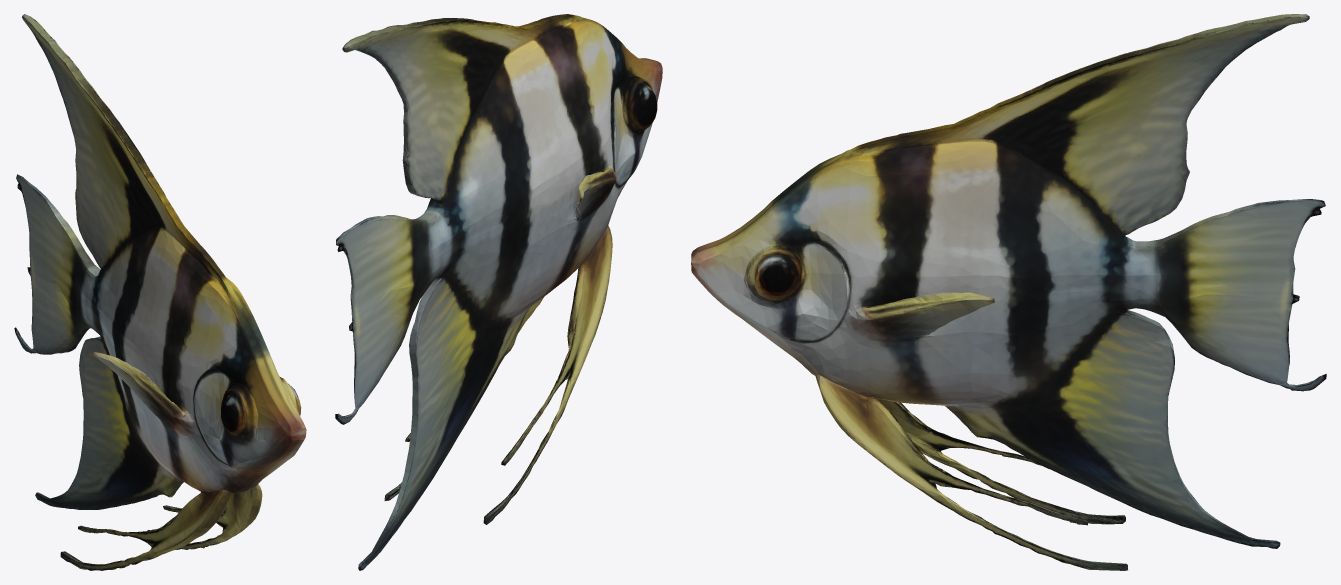
Rendered from Copilot3D-fish3.glb.
The picture shows the model from 3 angles, left to right: view 1: azimuth 30°, elevation 25°; view 2: azimuth 150°, elevation 25°; view 3: azimuth 270°, elevation 25°; orthographic projection. The views are drawn at different scales.
Visible parts, largest first — view 1: world; view 2: world; view 3: world.
Part boxes in pixels (box(x1,y1,x2,y2)): world: box(14, 14, 306, 570); world: box(335, 14, 662, 570); world: box(691, 14, 1326, 570).
Bounding box in the file's own units: 0.2868 × 0.9245 × 0.9981.
1 material, 1 textured.
